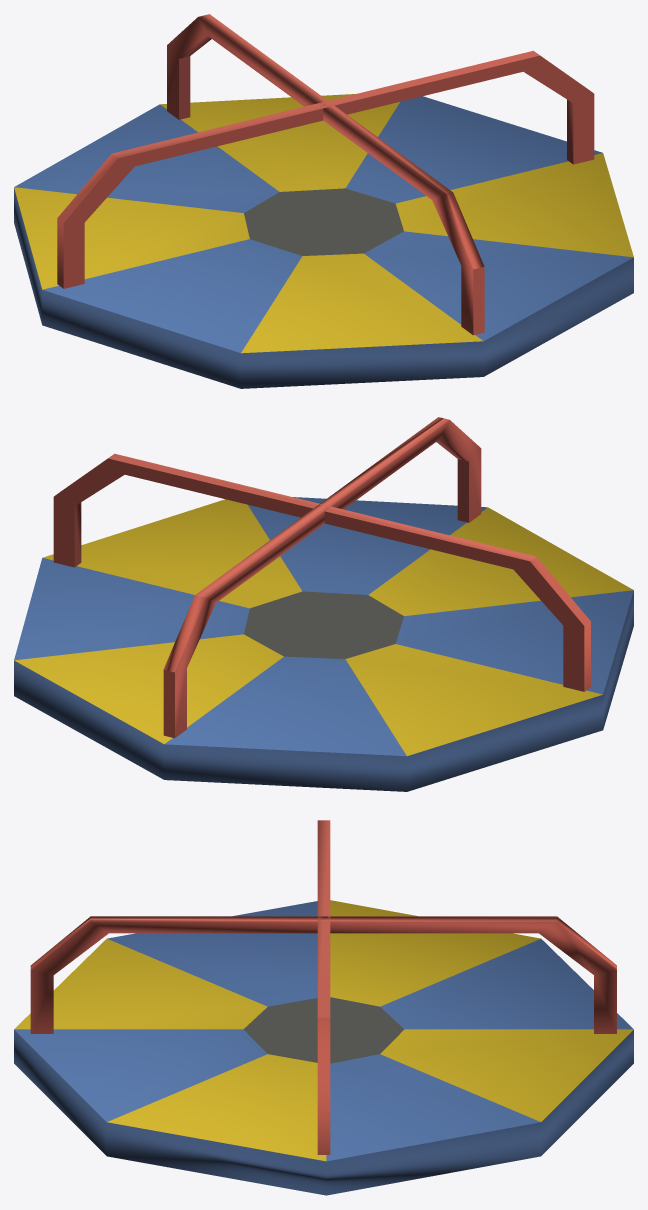
Rendered from apoc_prop_67.glb.
The picture shows the model from 3 angles, top to bottom: view 1: azimuth 30°, elevation 25°; view 2: azimuth 150°, elevation 25°; view 3: azimuth 270°, elevation 25°; orthographic projection. The views are drawn at different scales.
Visible parts, largest first — view 1: prop_069; view 2: prop_069; view 3: prop_069.
Boxes of the visible parts, x1,y1,x2,y2 form: prop_069: [14, 14, 633, 388]; prop_069: [14, 417, 633, 791]; prop_069: [14, 820, 633, 1195].
Bounding box in the file's own units: 0.6447 × 0.2351 × 0.6447.
1 material, 1 textured.
